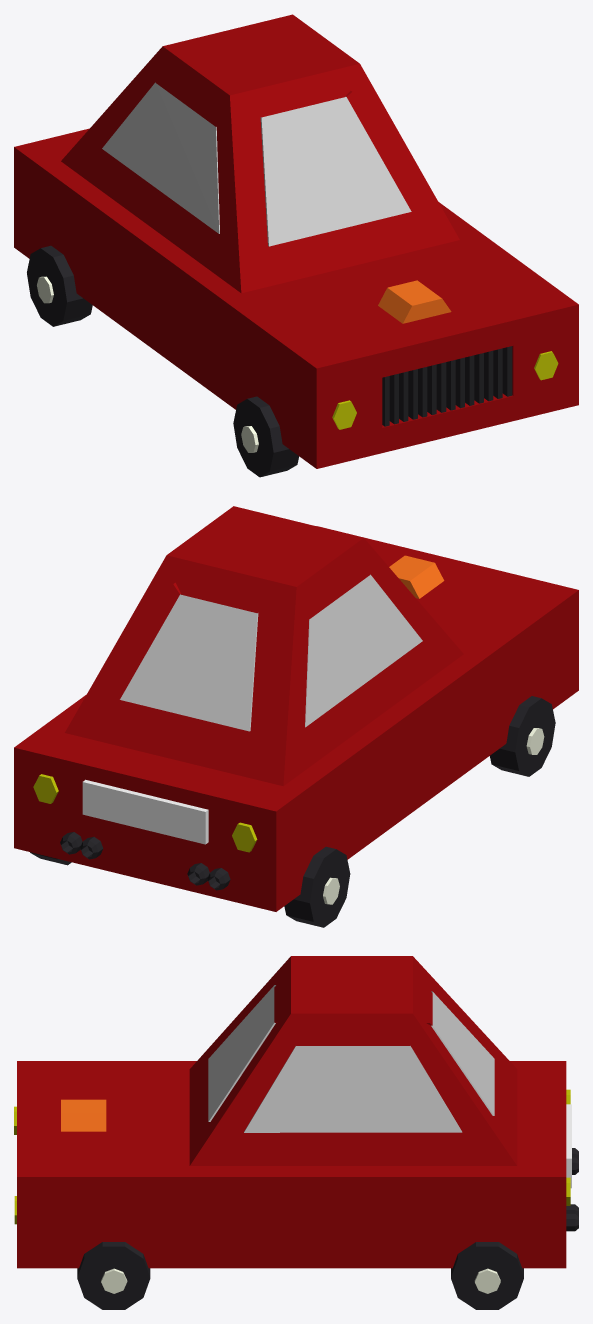
The model's file is car3.obj.
The picture shows the model from 3 angles, top to bottom: view 1: azimuth 30°, elevation 25°; view 2: azimuth 150°, elevation 25°; view 3: azimuth 270°, elevation 25°; orthographic projection. The views are drawn at different scales.
Parts seen in each view (by area): view 1: Cube, Cube.001, Cube.002, Cylinder.006, Cylinder.005; view 2: Cube.001, Cube, Cube.003, Cylinder.004, Cylinder.006, Cylinder.005, Cylinder.003, Cylinder.002; view 3: Cube, Cube.001, Cylinder.006, Cylinder.005, Cylinder.004, Cube.003.
Boxes of the visible parts, x1,y1,x2,y2 form: Cube: (14,128,578,468); Cube.001: (27,14,459,477); Cube.002: (382,346,512,426); Cylinder.006: (378,280,451,323); Cylinder.005: (37,276,258,452); Cube.001: (30,506,555,927); Cube: (14,526,578,911); Cube.003: (82,779,208,844); Cylinder.004: (60,832,230,890); Cylinder.006: (389,555,444,598); Cylinder.005: (323,728,544,904); Cylinder.003: (33,774,58,803); Cylinder.002: (232,822,257,852); Cube: (17,1061,566,1268); Cube.001: (77,956,523,1309); Cylinder.006: (61,1099,106,1131); Cylinder.005: (101,1268,500,1293); Cylinder.004: (566,1148,578,1231); Cube.003: (566,1104,571,1188).
Bounding box in the file's own units: 3.33 × 3.15 × 6.17.
